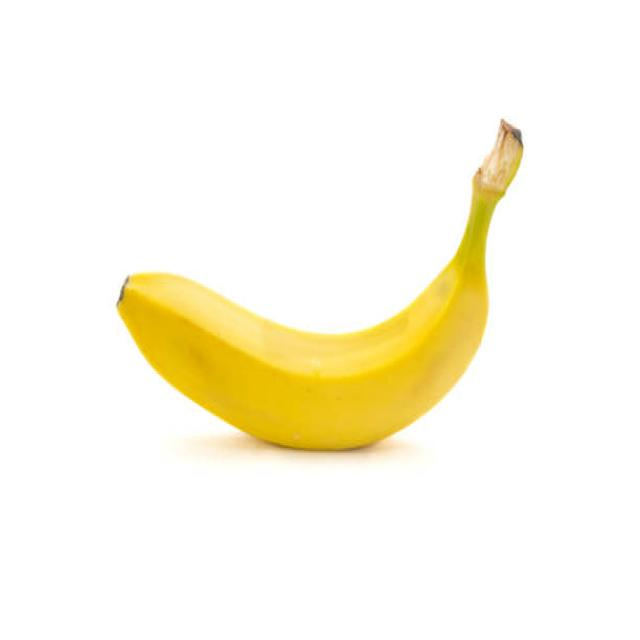banana: (116, 188, 495, 455)
